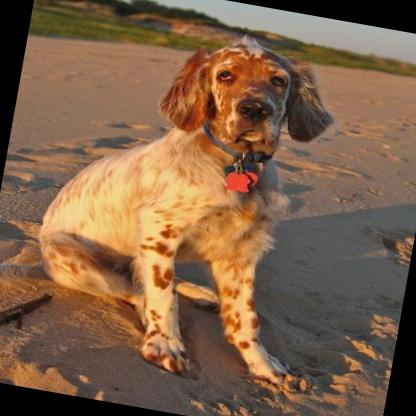English_setter: (19, 0, 369, 399)
